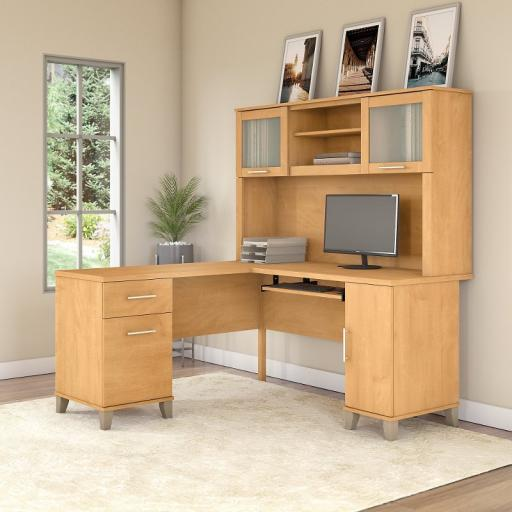desk: (52, 86, 474, 440)
wall: (182, 0, 510, 433), (0, 0, 182, 381)
